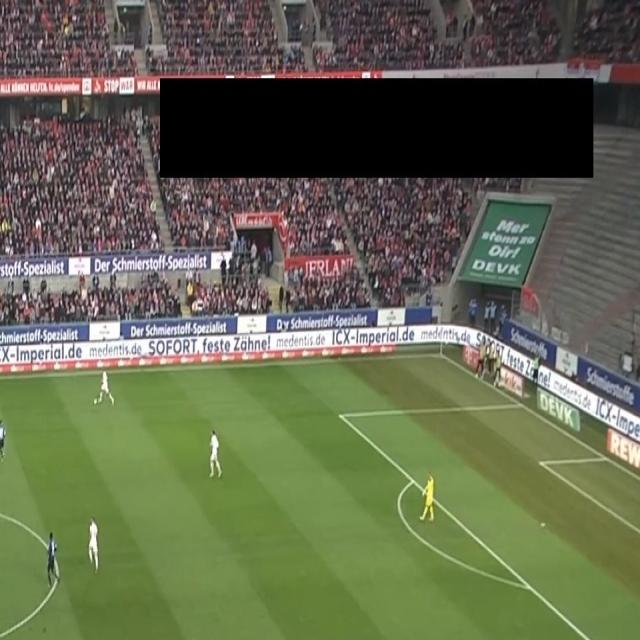ball: (91, 396, 98, 408)
